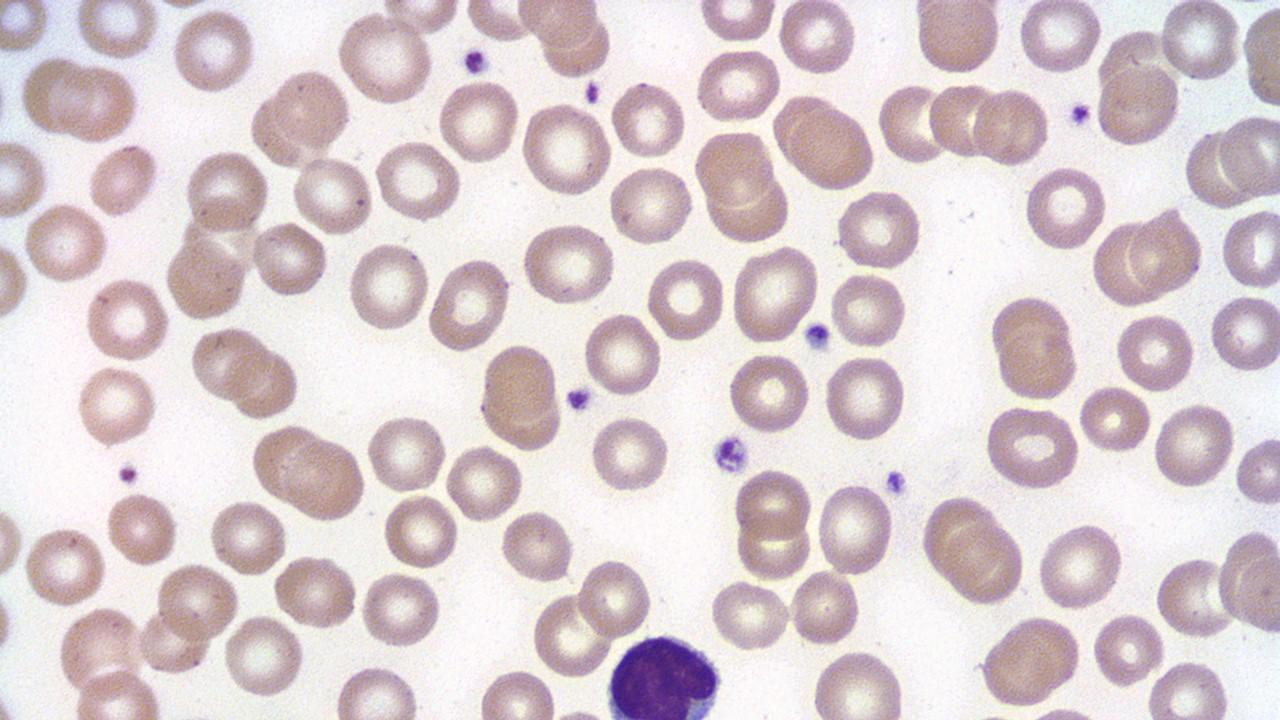Platelets: (706, 432, 752, 476), (459, 43, 492, 77), (801, 320, 832, 353), (562, 385, 594, 414), (1066, 98, 1094, 131), (882, 467, 910, 498)
RBC: (986, 290, 1081, 402), (334, 9, 436, 109), (975, 613, 1083, 706), (728, 242, 821, 348), (518, 100, 614, 198), (980, 401, 1081, 492), (55, 604, 149, 700), (426, 254, 512, 356), (518, 221, 619, 307), (478, 340, 562, 442), (1036, 519, 1126, 613), (345, 238, 431, 335), (814, 478, 896, 579), (786, 102, 878, 192), (181, 145, 271, 236), (1151, 398, 1237, 492), (822, 351, 908, 445), (83, 274, 172, 364), (170, 6, 257, 97), (529, 588, 615, 680), (373, 137, 463, 224), (436, 76, 522, 167), (1092, 63, 1182, 149), (1152, 552, 1238, 642), (1022, 163, 1108, 253), (726, 349, 813, 436), (23, 200, 111, 286), (606, 162, 695, 247), (832, 187, 922, 270), (162, 236, 248, 322), (290, 152, 376, 238), (22, 524, 110, 608), (221, 611, 305, 699), (284, 434, 366, 524), (644, 254, 726, 344), (582, 308, 662, 399), (74, 364, 160, 448), (272, 550, 360, 632), (53, 62, 143, 142), (919, 492, 998, 583), (693, 46, 784, 124), (1157, 0, 1241, 84), (154, 560, 240, 642), (1127, 205, 1203, 297), (1114, 309, 1196, 394), (944, 520, 1025, 606), (912, 0, 1003, 76), (576, 555, 655, 642), (809, 648, 907, 718), (692, 126, 775, 208), (207, 494, 288, 578), (445, 441, 525, 526), (608, 77, 688, 162), (365, 412, 447, 494), (187, 322, 270, 403), (358, 569, 442, 649), (972, 84, 1050, 170), (704, 170, 793, 245), (270, 66, 350, 149), (249, 422, 328, 506), (1090, 218, 1164, 307), (829, 269, 910, 350), (17, 53, 93, 139), (1016, 0, 1102, 76), (876, 81, 951, 168), (590, 414, 671, 494), (251, 218, 330, 300), (708, 578, 792, 654), (788, 566, 863, 650), (498, 507, 576, 587), (382, 492, 460, 572), (1090, 608, 1166, 690), (732, 465, 814, 541), (1208, 290, 1280, 376), (778, 1, 858, 78), (104, 489, 180, 569), (928, 77, 1000, 161), (86, 141, 160, 219), (1077, 382, 1153, 456), (1145, 656, 1233, 719), (1218, 110, 1280, 199), (73, 0, 160, 62), (734, 512, 814, 578), (330, 661, 424, 717), (68, 664, 165, 718), (228, 348, 300, 420), (136, 608, 211, 677), (1220, 205, 1280, 290), (1231, 540, 1279, 638), (475, 666, 560, 718), (1240, 2, 1280, 111), (0, 137, 52, 220), (514, 0, 599, 48), (1233, 431, 1279, 508), (696, 2, 780, 44), (375, 1, 463, 38), (0, 1, 51, 59), (0, 232, 29, 326), (0, 494, 26, 589)
WBC: (603, 632, 728, 716)
